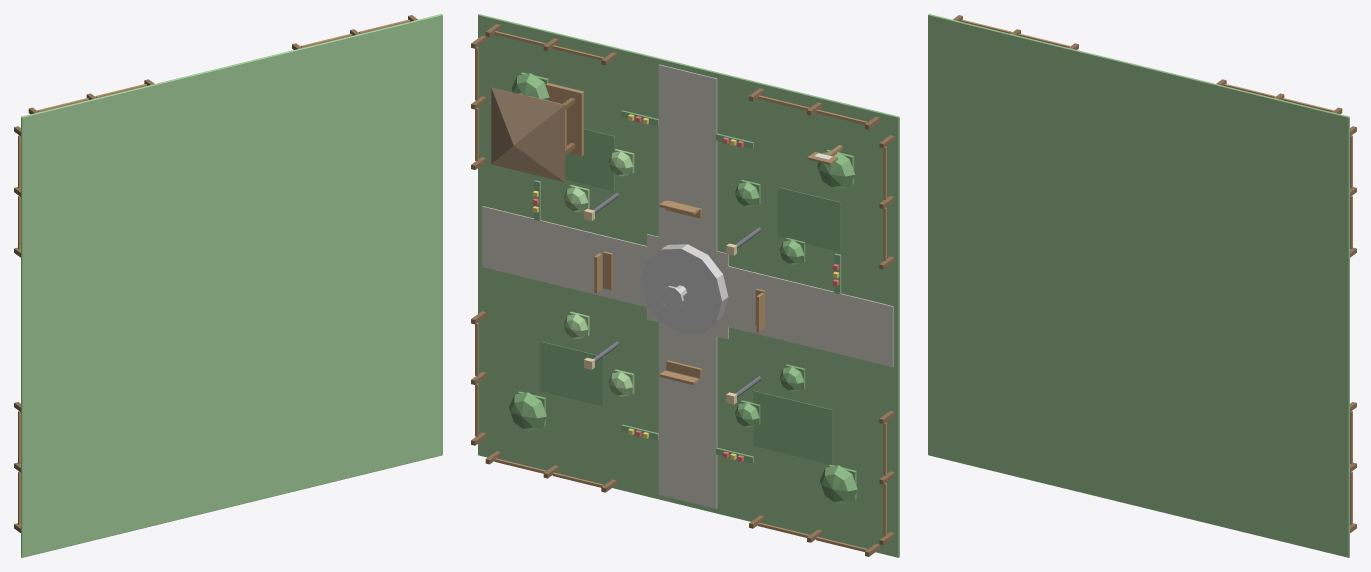
The model's file is citypark.fbx.
3 views of the same model, side by side, from view 1: azimuth 30°, elevation 25°; view 2: azimuth 150°, elevation 25°; view 3: azimuth 330°, elevation 25° (orthographic).
Parts seen in each view (by area): view 1: GroundBase; view 2: GroundBase, ParkPath_NorthSouth, ParkPath_EastWest, GazeboRoof, ParkFountainBase, GroundPatch_01, GroundPatch_03, GroundPatch_04, GroundPatch_02, GazeboFloor, CornerBush_01, CornerBush_02 (+3 smaller); view 3: GroundBase.
Boxes of the visible parts, left/top/right/bottom form: GroundBase: left=21, top=14, right=442, bottom=557; GroundBase: left=478, top=14, right=899, bottom=557; ParkPath_NorthSouth: left=658, top=64, right=717, bottom=508; ParkPath_EastWest: left=482, top=206, right=893, bottom=366; GazeboRoof: left=491, top=87, right=564, bottom=182; ParkFountainBase: left=640, top=244, right=728, bottom=333; GroundPatch_01: left=753, top=390, right=832, bottom=465; GroundPatch_03: left=777, top=187, right=840, bottom=252; GroundPatch_04: left=540, top=341, right=603, bottom=406; GroundPatch_02: left=565, top=128, right=614, bottom=191; GazeboFloor: left=545, top=83, right=583, bottom=156; CornerBush_01: left=820, top=465, right=857, bottom=504; CornerBush_02: left=509, top=392, right=546, bottom=431; GroundBase: left=928, top=14, right=1349, bottom=557.
Bounding box in the file's own units: 1600 × 1600 × 273.
